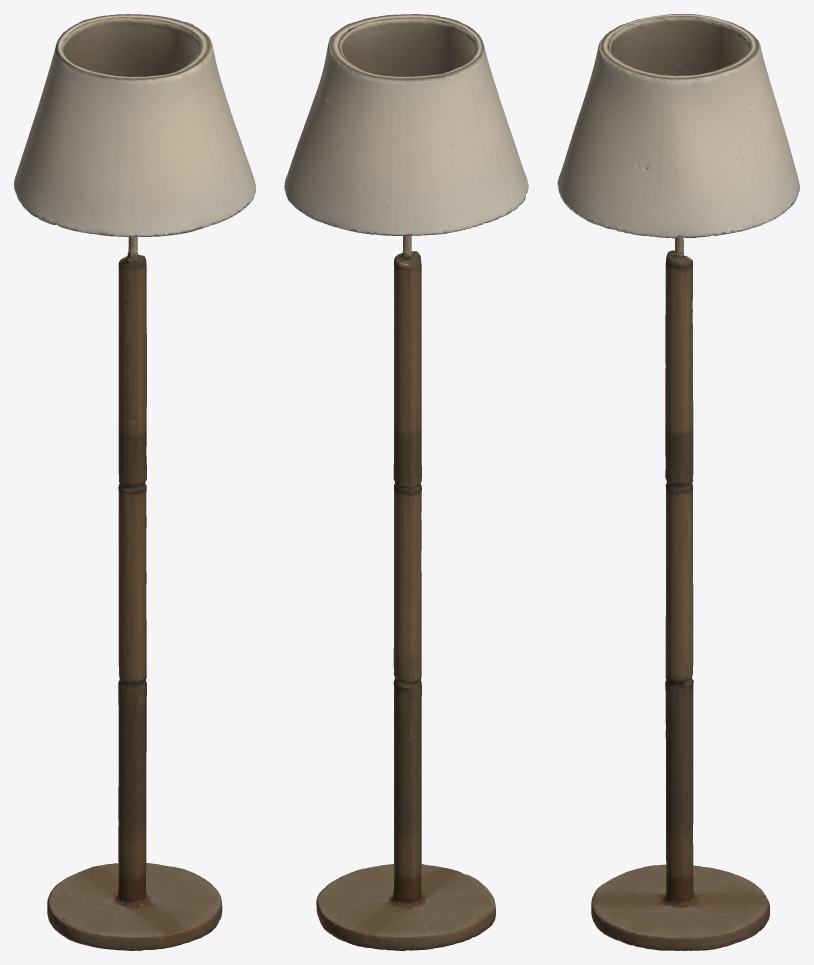
File: FloorLamp.fbx
3 renders of one model, left to right at view 1: azimuth 30°, elevation 25°; view 2: azimuth 150°, elevation 25°; view 3: azimuth 270°, elevation 25°, orthographic.
Visible parts, largest first — view 1: Mesh_0; view 2: Mesh_0; view 3: Mesh_0.
Boxes of the visible parts, left/top/right/bottom form: Mesh_0: left=14, top=14, right=255, bottom=950; Mesh_0: left=284, top=14, right=528, bottom=950; Mesh_0: left=557, top=14, right=799, bottom=950.
Bounding box in the file's own units: 50.59 × 200 × 50.57.
Materials: 1 (1 with a texture image).
